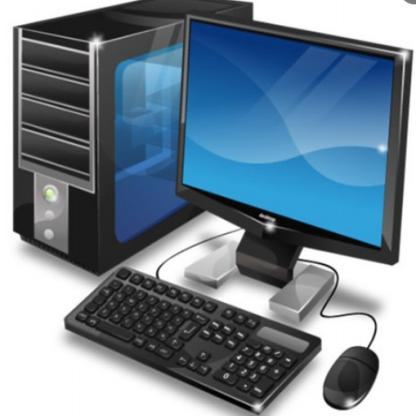DESKTOP: (5, 4, 416, 416)
